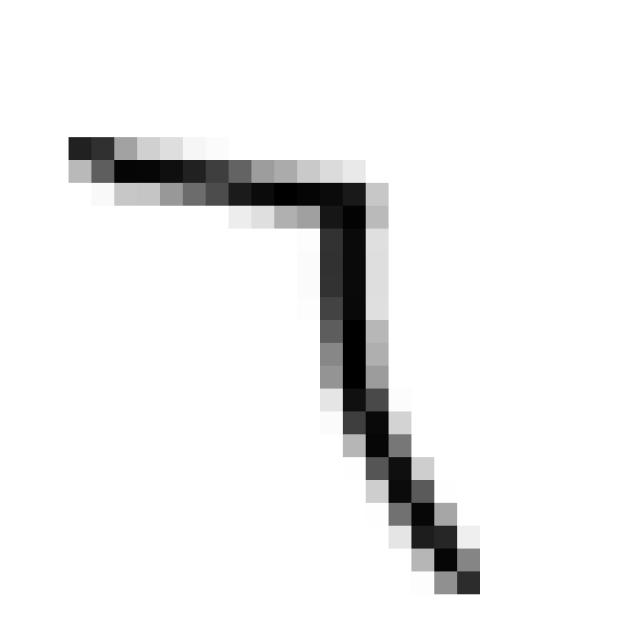6 -six-: (48, 114, 497, 614)
